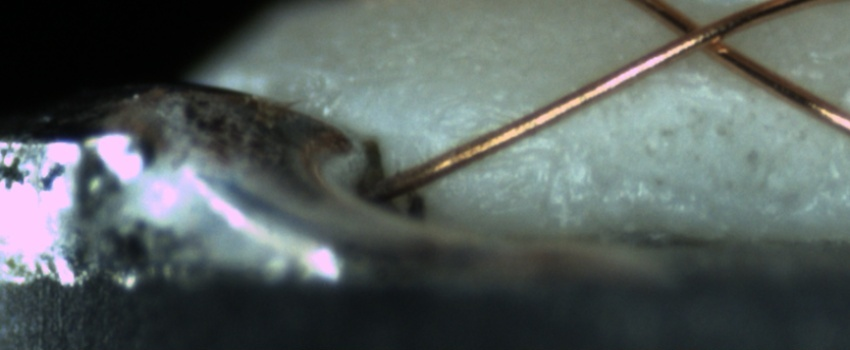CL: (649, 3, 747, 66)
DL: (627, 61, 746, 104)
